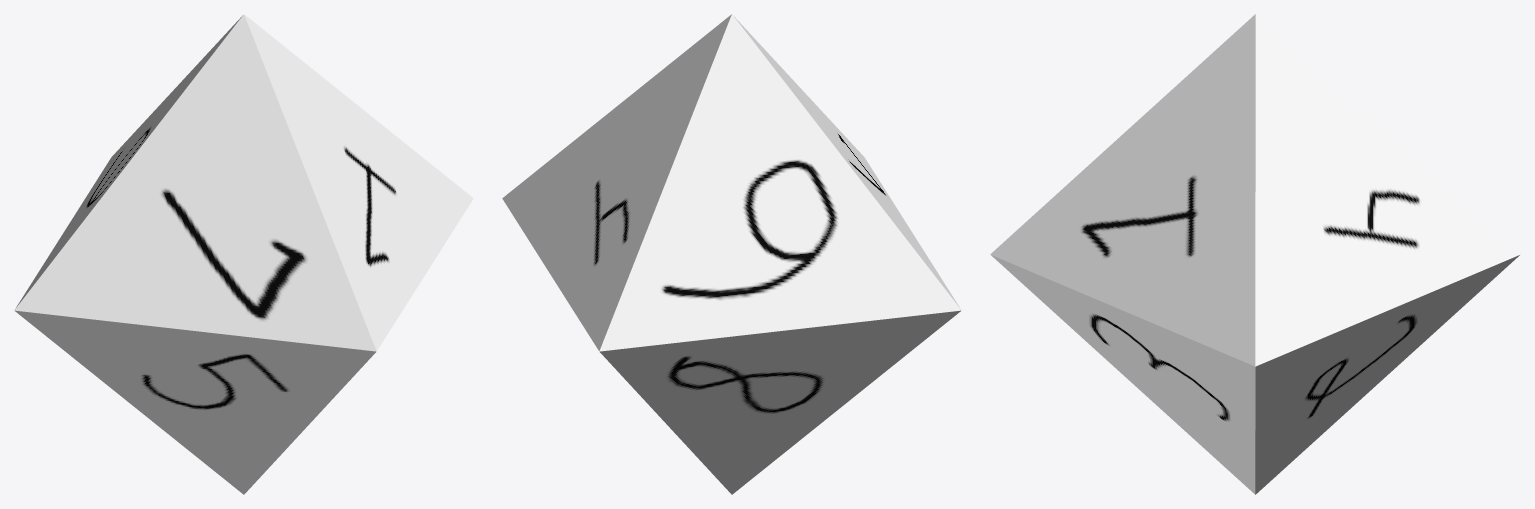
The picture shows the model from 3 angles, left to right: view 1: azimuth 30°, elevation 25°; view 2: azimuth 150°, elevation 25°; view 3: azimuth 270°, elevation 25°; orthographic projection.
Visible parts, largest first — view 1: Octohedron; view 2: Octohedron; view 3: Octohedron.
Boxes of the visible parts, <box> form: Octohedron: <box>14,14,473,494</box>; Octohedron: <box>502,14,961,494</box>; Octohedron: <box>990,14,1520,494</box>.
Size of the model in its own units: 200 by 200 by 200.
